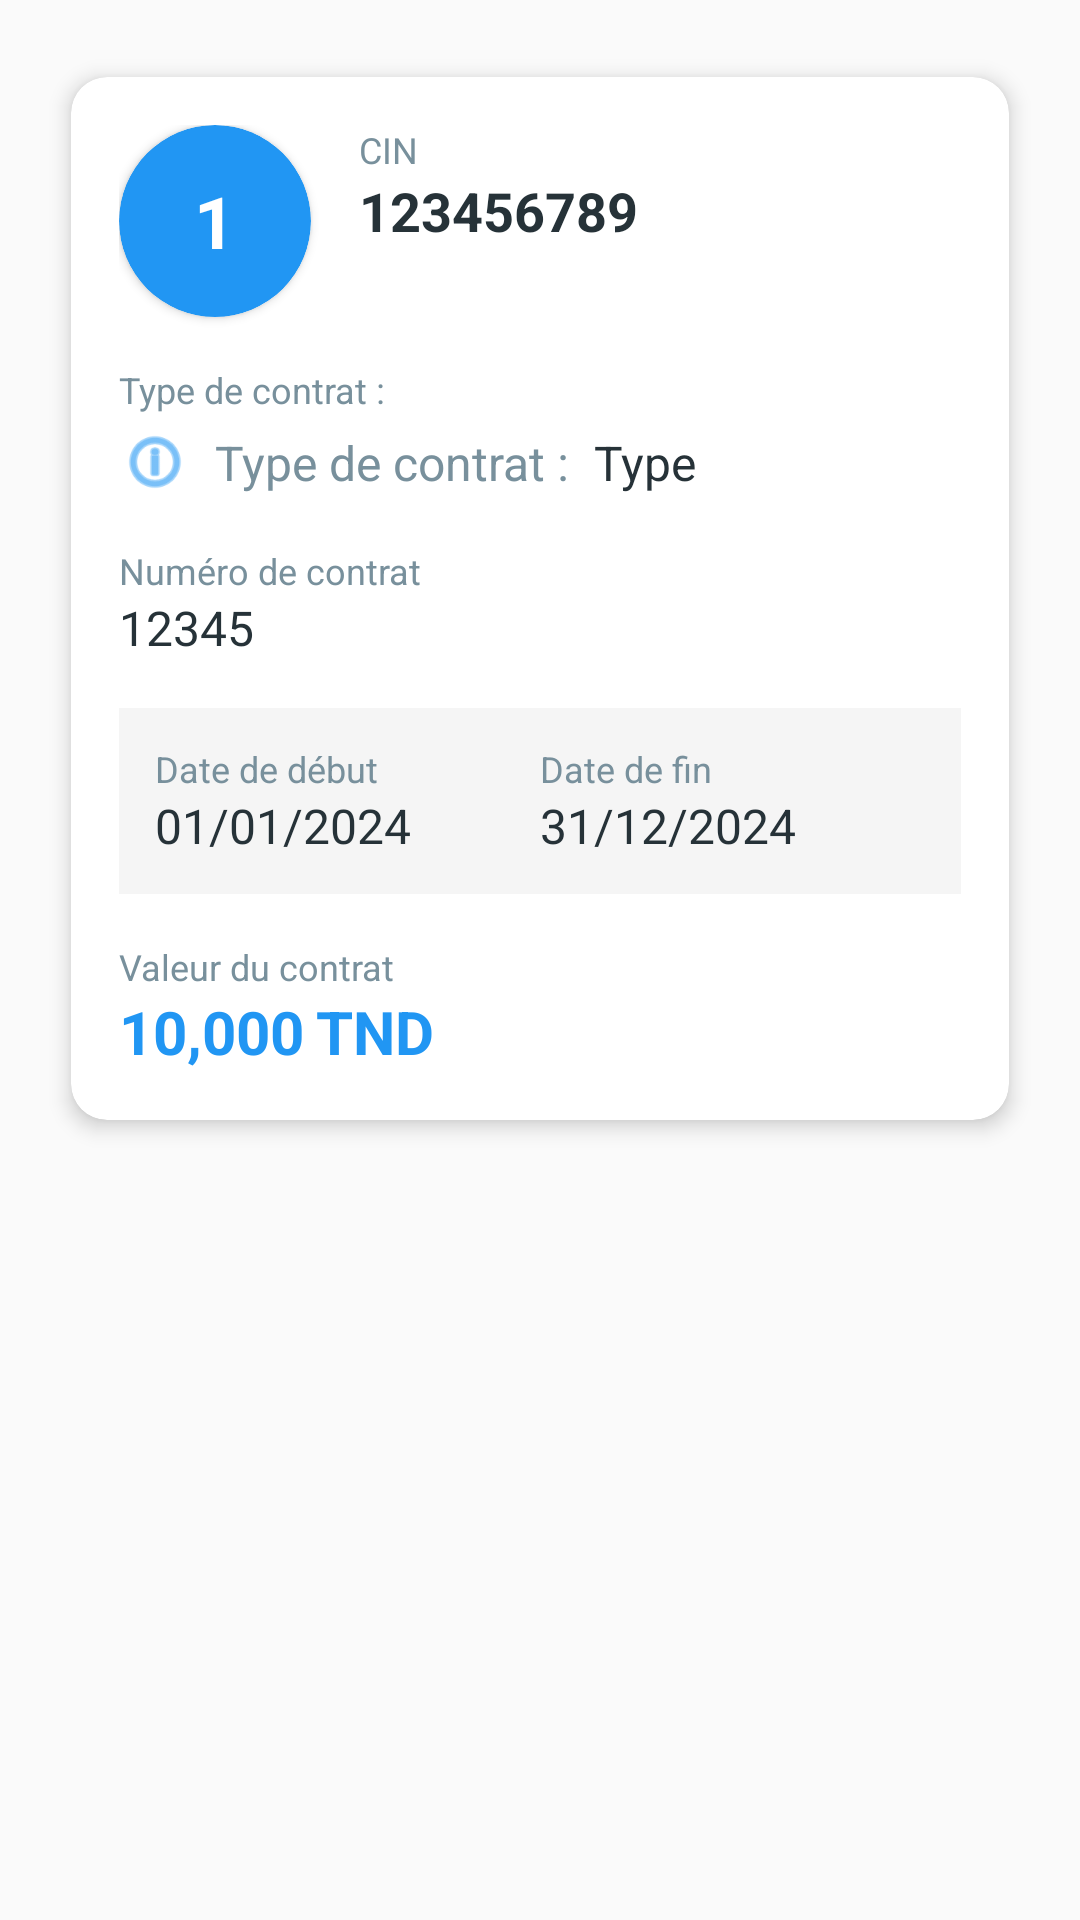

Locate icon controls on the screen. Image size 1080 × 1920, boxes as bbox=(x1, y1, x2, y2).
info details: bbox=(129, 436, 181, 488)
